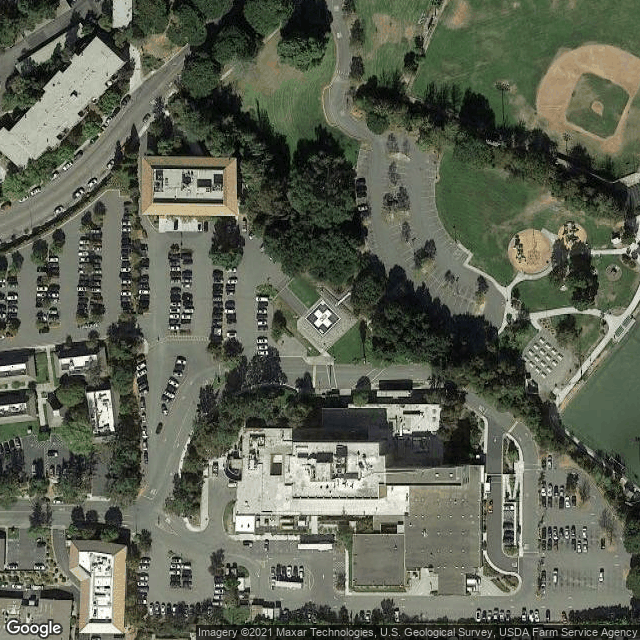Helipad: (304, 298, 342, 336)
